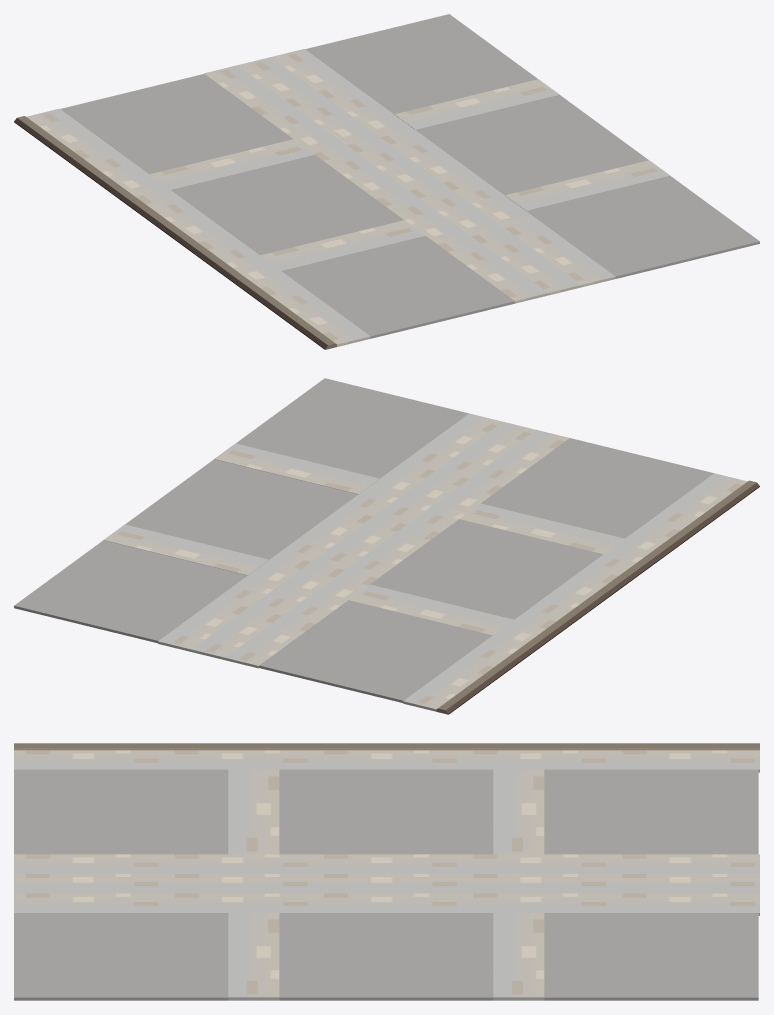
Rendered from CityRoad.fbx.
3 renders of one model, top to bottom at view 1: azimuth 30°, elevation 25°; view 2: azimuth 150°, elevation 25°; view 3: azimuth 270°, elevation 25°, orthographic. The views are drawn at different scales.
Visible parts, largest first — view 1: Plane.018, Plane, Plane.017, Plane.016, Plane.019, Plane.020, Cube.129, Cube.130, Cube.106, Cube.107, Cube.109, Cube.108 (+23 smaller); view 2: Plane.020, Plane.017, Plane.016, Plane, Plane.019, Plane.018, Cube.129, Cube.130, Cube.107, Cube.106, Cube.126, Cube.127 (+23 smaller); view 3: Plane.018, Plane.019, Plane.020, Plane.017, Plane, Plane.016, Cube.129, Cube.130, Cube.106, Cube.107, Cube.100, Cube.128 (+23 smaller).
Boxes of the visible parts, box(x1,y1,x2,y2) form: Plane.018: box(526, 176, 759, 278); Plane: box(282, 236, 514, 338); Plane.017: box(60, 74, 293, 174); Plane.016: box(171, 155, 403, 255); Plane.019: box(416, 95, 648, 195); Plane.020: box(305, 14, 537, 114); Cube.129: box(505, 160, 670, 210); Cube.130: box(394, 79, 559, 129); Cube.106: box(260, 220, 425, 270); Cube.107: box(150, 139, 314, 189); Cube.109: box(486, 239, 581, 295); Cube.108: box(453, 247, 548, 303); Plane.020: box(14, 540, 247, 643); Plane.017: box(259, 600, 492, 702); Plane.016: box(370, 519, 603, 619); Plane: box(481, 438, 713, 538); Plane.019: box(125, 459, 358, 559); Plane.018: box(236, 378, 468, 478); Cube.129: box(214, 443, 379, 494); Cube.130: box(103, 524, 268, 575); Cube.107: box(349, 584, 513, 635); Cube.106: box(460, 503, 624, 554); Cube.126: box(225, 612, 320, 668); Cube.127: box(191, 604, 286, 659); Plane.018: box(14, 913, 228, 1000); Plane.019: box(279, 913, 493, 1000); Plane.020: box(544, 913, 758, 1000); Plane.017: box(544, 769, 758, 854); Plane: box(14, 769, 228, 854); Plane.016: box(279, 769, 493, 854); Cube.129: box(228, 912, 279, 1000); Cube.130: box(493, 912, 544, 1000); Cube.106: box(228, 769, 279, 854); Cube.107: box(493, 769, 544, 854); Cube.100: box(610, 750, 759, 772); Cube.128: box(610, 893, 759, 915).
Bounding box in the file's own units: 36.31 × 0.3 × 45.
Materials: 2 (2 with a texture image).
